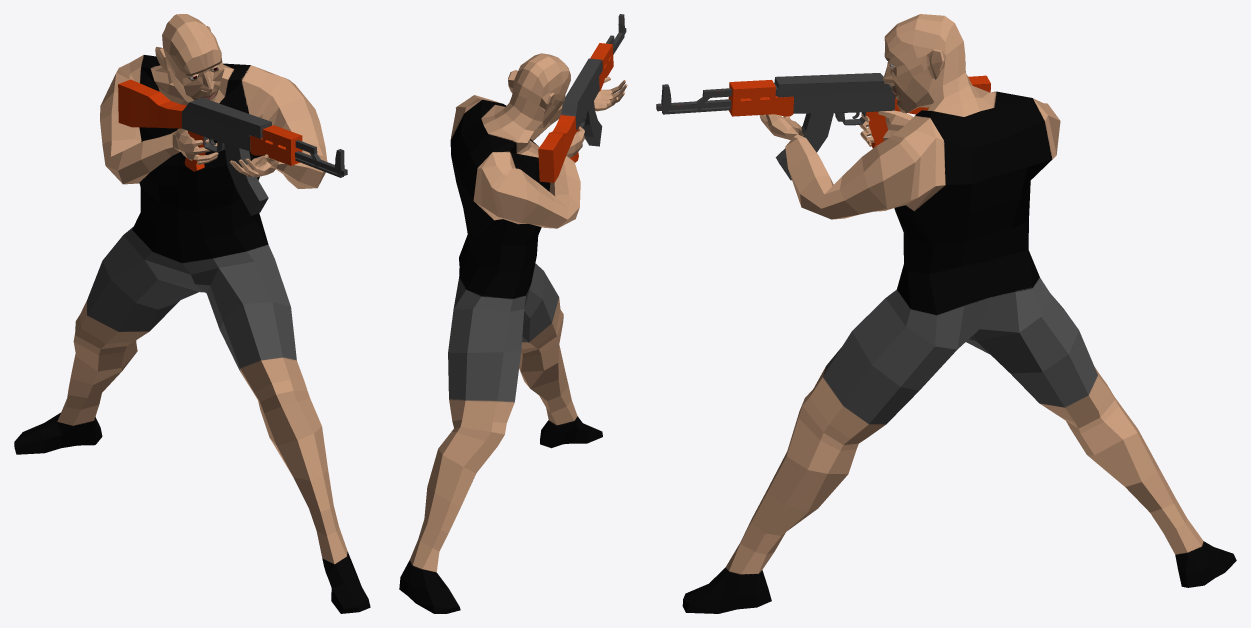
The model's file is PlayerShoot(9).obj.
The picture shows the model from 3 angles, left to right: view 1: azimuth 30°, elevation 25°; view 2: azimuth 150°, elevation 25°; view 3: azimuth 270°, elevation 25°; orthographic projection. The views are drawn at different scales.
Visible parts, largest first — view 1: Plane002, Object001; view 2: Plane002, Object001; view 3: Plane002, Object001.
Part boxes in pixels (bbox=[...]): Plane002: bbox=[14, 14, 370, 613]; Object001: bbox=[118, 79, 347, 215]; Plane002: bbox=[399, 53, 627, 613]; Object001: bbox=[538, 14, 626, 182]; Plane002: bbox=[682, 14, 1236, 613]; Object001: bbox=[656, 73, 990, 180].
Size of the model in its own units: 538 by 1638 by 1539.
